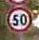limite 50: (5, 6, 32, 33)
